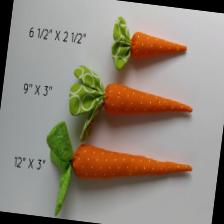carrot: (37, 118, 196, 224), (63, 62, 195, 154), (108, 13, 190, 79)
